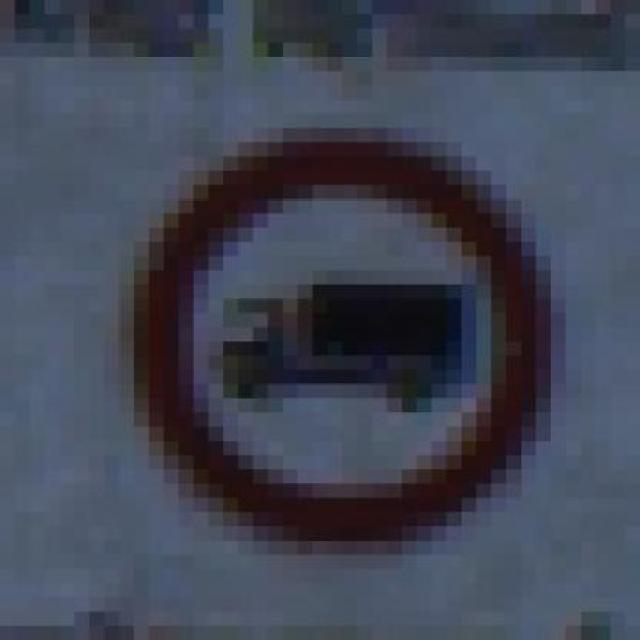Truck traffic is prohibited: (89, 113, 566, 555)
